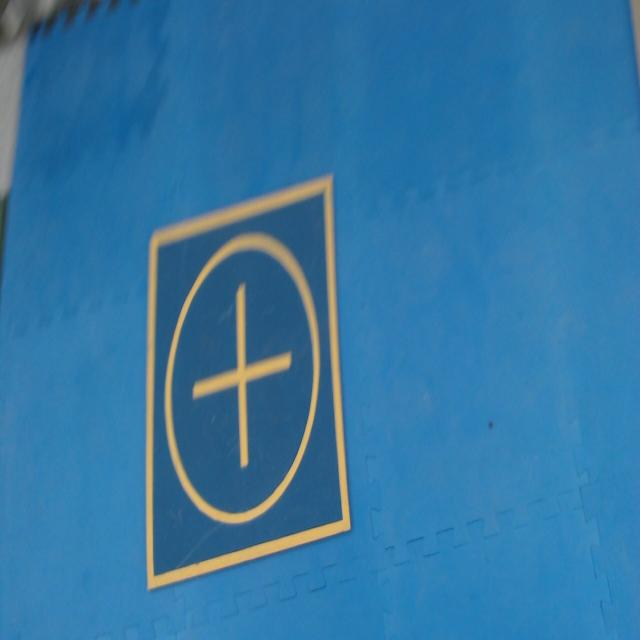base_pouso: (147, 172, 353, 594)
